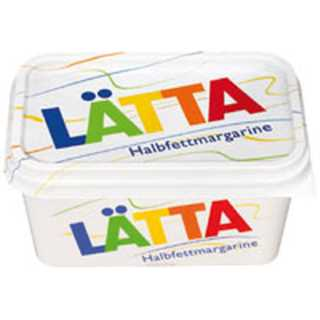laetta: (6, 48, 320, 268)
